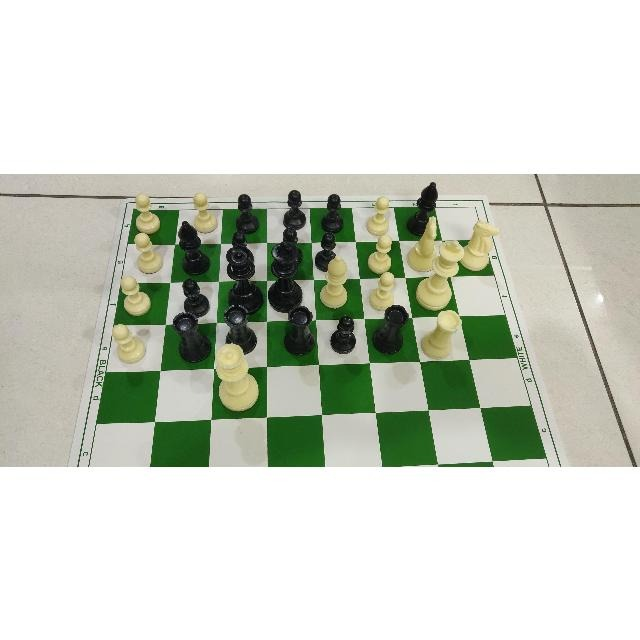black-bishop: (178, 220, 212, 276), (177, 219, 210, 274), (406, 180, 438, 235)
black-king: (267, 239, 305, 313), (269, 240, 303, 308)
black-pawn: (181, 277, 211, 317), (329, 313, 356, 354), (234, 192, 259, 234), (330, 314, 356, 353), (283, 188, 307, 230), (182, 278, 210, 314), (235, 193, 260, 233), (321, 192, 345, 233), (313, 230, 336, 271), (280, 226, 303, 266), (231, 229, 255, 267), (314, 231, 336, 272), (283, 188, 306, 227), (321, 192, 344, 231), (283, 226, 303, 261), (231, 230, 253, 254)
black-queen: (225, 245, 265, 309)
black-rook: (170, 310, 216, 362), (219, 303, 260, 353), (172, 311, 211, 363), (371, 303, 408, 355), (372, 303, 409, 353), (222, 303, 257, 355), (284, 304, 316, 356), (284, 304, 315, 354)
white-bishop: (319, 252, 351, 306)
white-king: (416, 237, 466, 306)
white-knight: (459, 219, 501, 271), (406, 215, 438, 272)
white-pawn: (112, 321, 146, 364), (118, 273, 151, 315), (112, 323, 146, 363), (133, 230, 164, 273), (120, 275, 152, 315), (134, 232, 163, 273), (191, 191, 219, 233), (368, 270, 395, 311), (135, 191, 161, 233), (193, 191, 219, 231), (135, 192, 161, 231), (367, 233, 392, 273), (369, 271, 394, 311), (366, 194, 390, 235), (366, 195, 389, 234)
white-queen: (214, 342, 259, 412)
white-rook: (420, 307, 464, 359), (420, 307, 461, 359)
